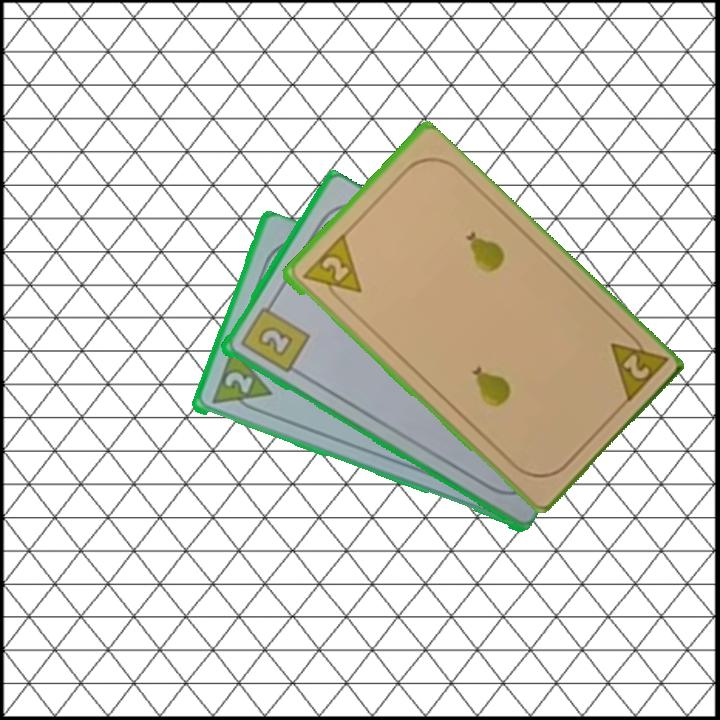2b: (236, 297, 312, 376)
2p: (605, 324, 669, 408), (296, 232, 364, 308), (220, 368, 256, 397)
